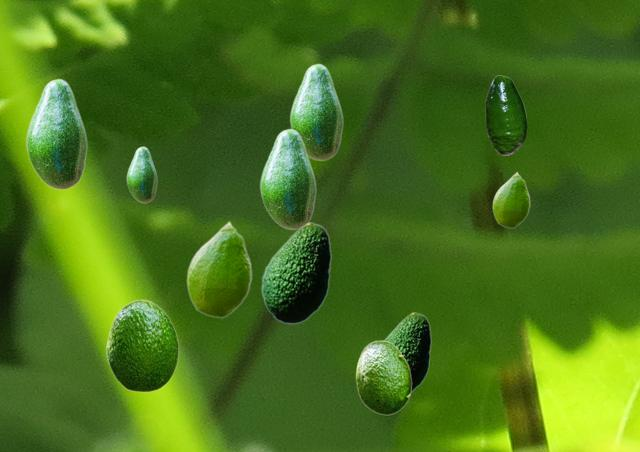avocado: (261, 222, 330, 323), (25, 78, 86, 189), (106, 299, 178, 391), (186, 220, 251, 317), (259, 128, 315, 229), (289, 63, 342, 160), (355, 340, 411, 414), (383, 312, 430, 392), (485, 75, 526, 154), (492, 171, 529, 227), (126, 146, 156, 202)
